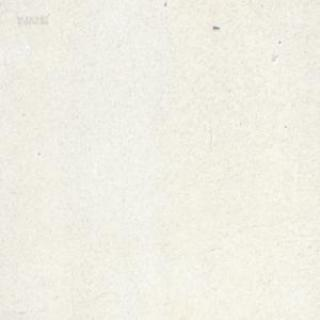Nailtrack_idkeyframe: (212, 24, 218, 29)
